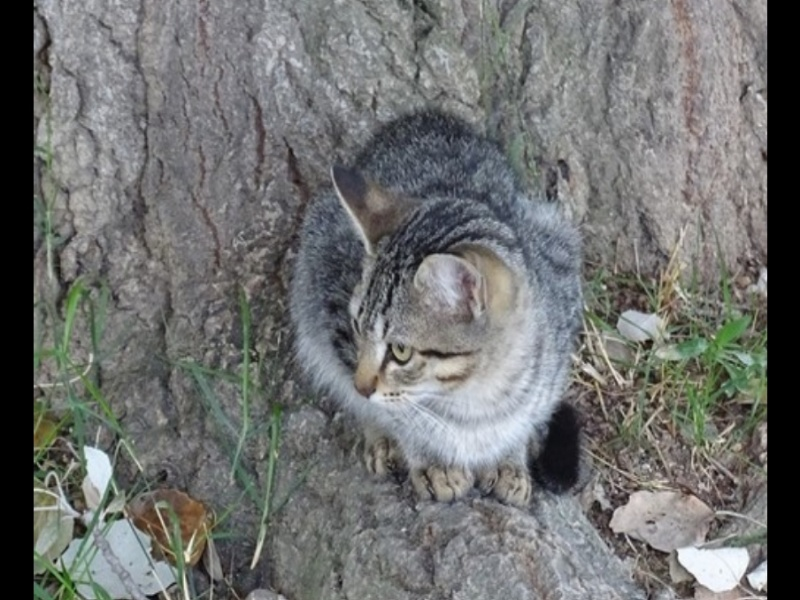cat: (291, 102, 595, 508)
